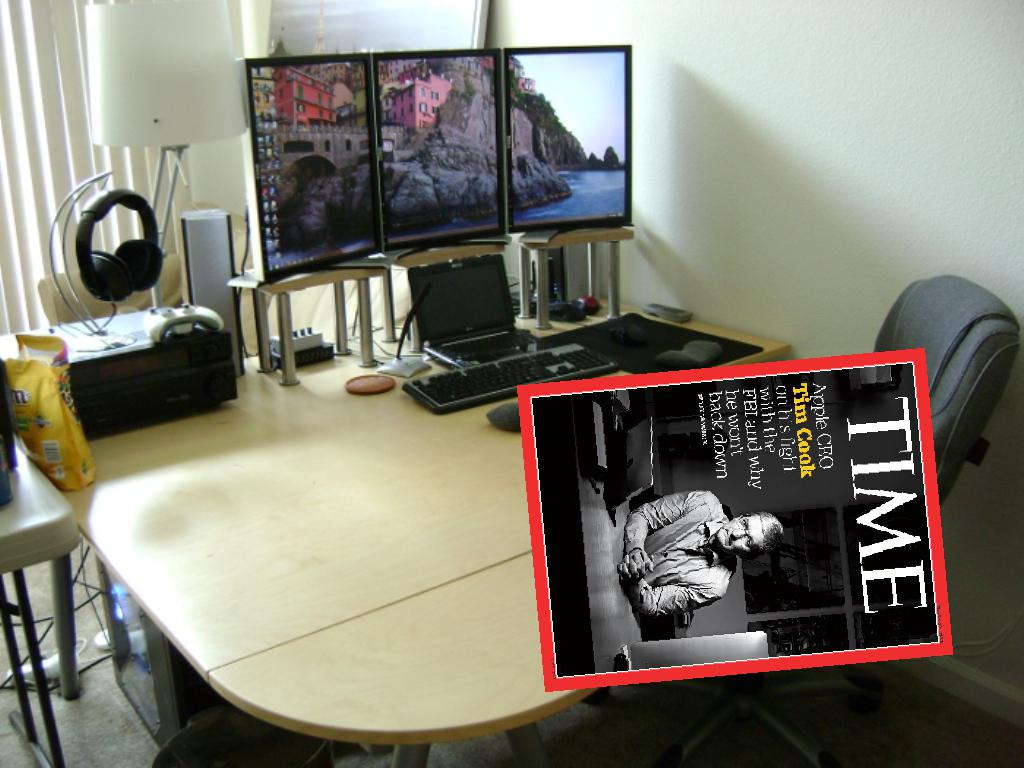times: (513, 342, 959, 703)
